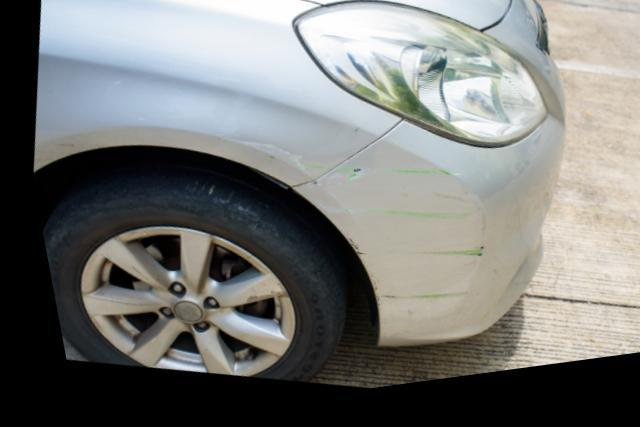scratch: (283, 174, 478, 315), (209, 138, 325, 187)
